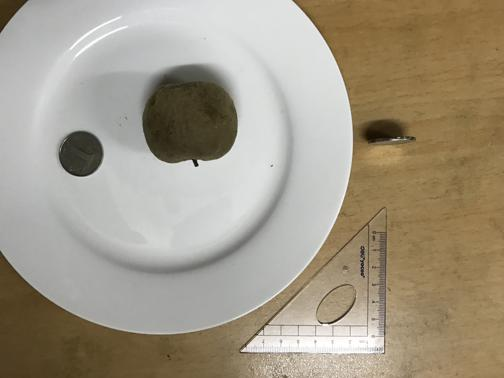coin: (58, 129, 103, 176)
qiwi: (143, 79, 237, 164)
